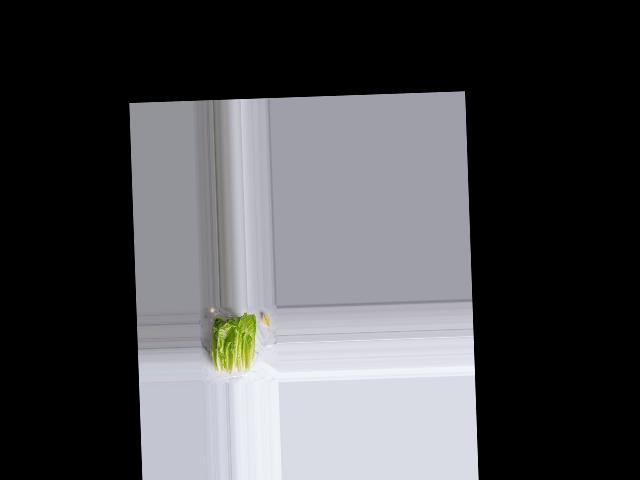lettuce: (208, 311, 260, 374)
